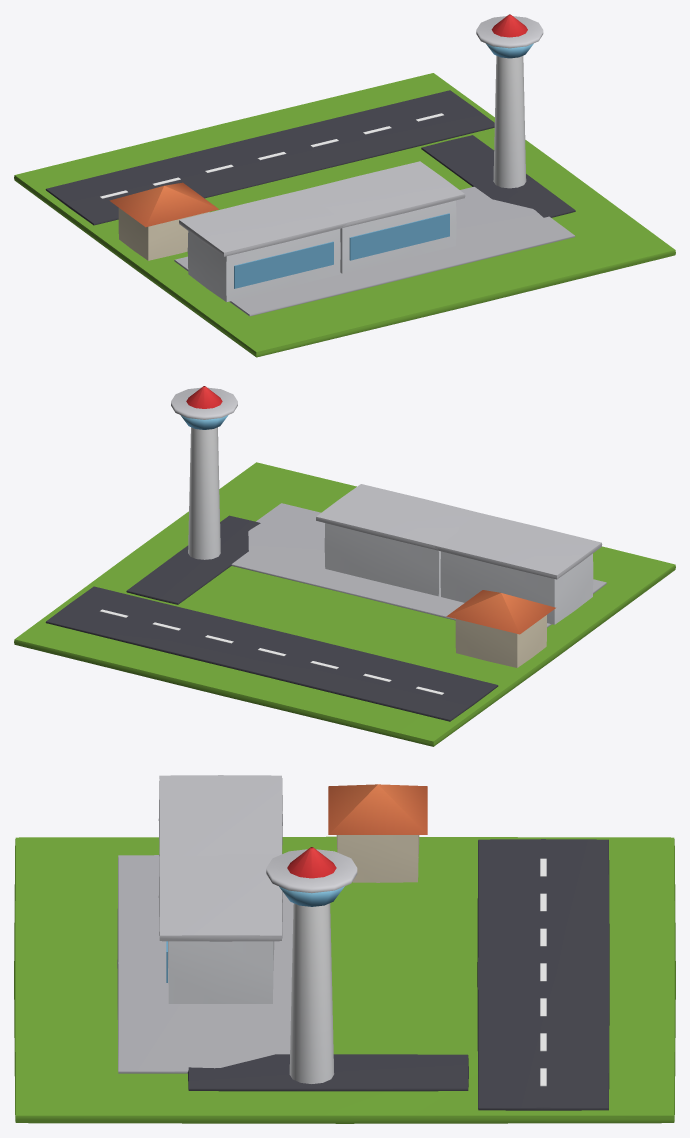
The model's file is Airport_L2.obj.
The picture shows the model from 3 angles, top to bottom: view 1: azimuth 30°, elevation 25°; view 2: azimuth 150°, elevation 25°; view 3: azimuth 270°, elevation 25°; orthographic projection. The views are drawn at different scales.
Parts seen in each view (by area): view 1: Airport_L2; view 2: Airport_L2; view 3: Airport_L2.
Boxes of the visible parts, x1,y1,x2,y2 form: Airport_L2: (14, 14, 675, 357); Airport_L2: (14, 386, 675, 746); Airport_L2: (14, 775, 675, 1123).
Size of the model in its own units: 8 by 3.19 by 8.
Materials: 1 (1 with a texture image).
